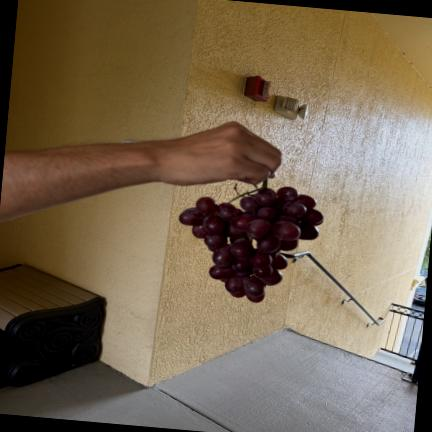grape_cluster: (179, 179, 323, 303)
